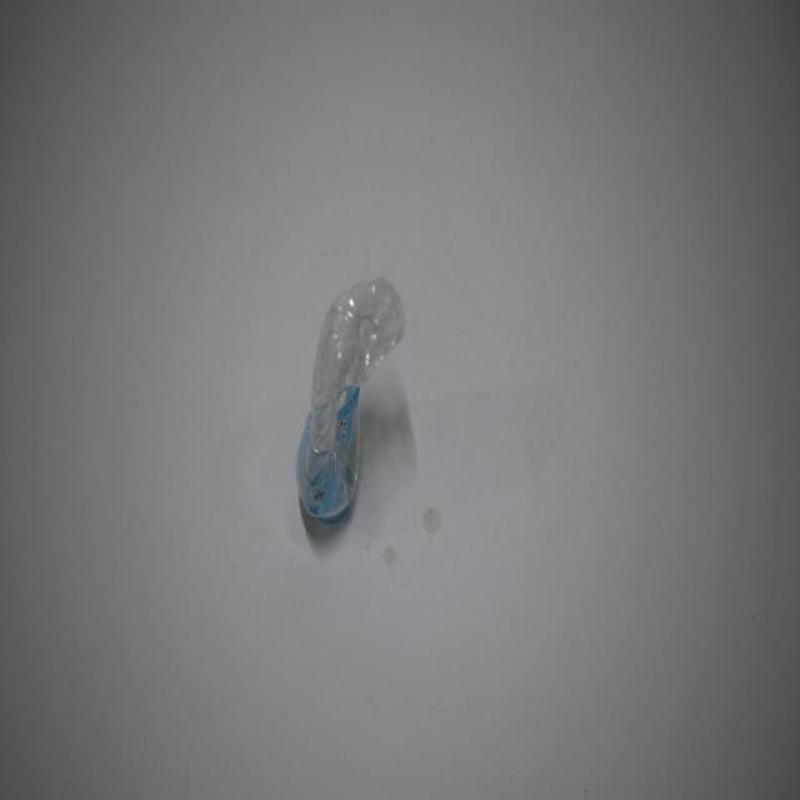botella: (296, 281, 406, 525)
